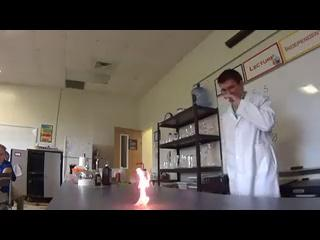Fire: (133, 166, 153, 205)
